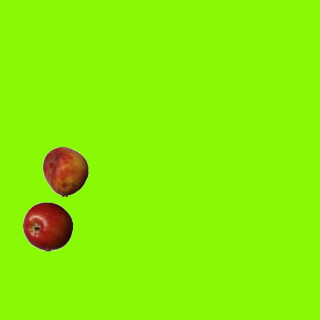Apple Braeburn: (22, 201, 72, 251)
Peach: (40, 146, 90, 196)
